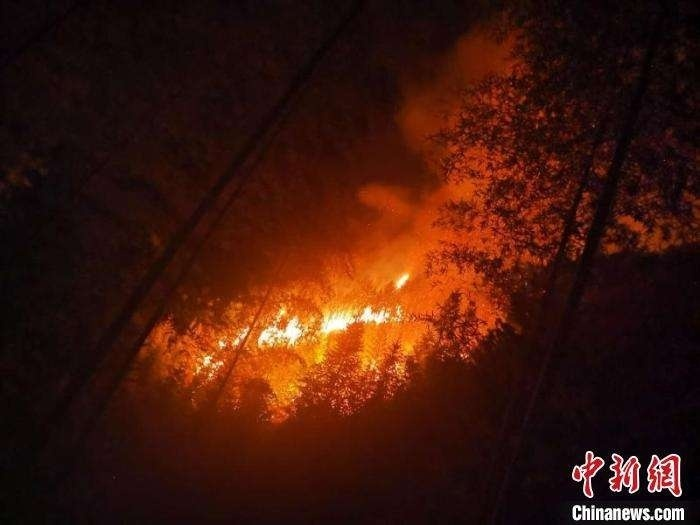fire: (179, 259, 419, 378)
